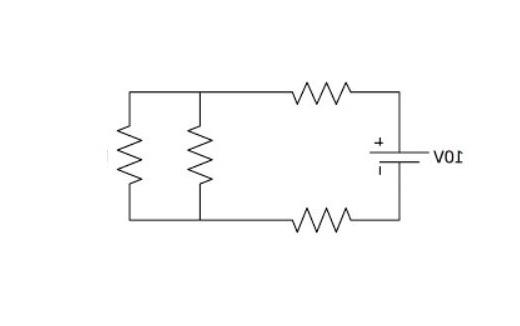resistor: (266, 179, 370, 241), (93, 110, 163, 198), (172, 112, 240, 195), (269, 61, 362, 112)
